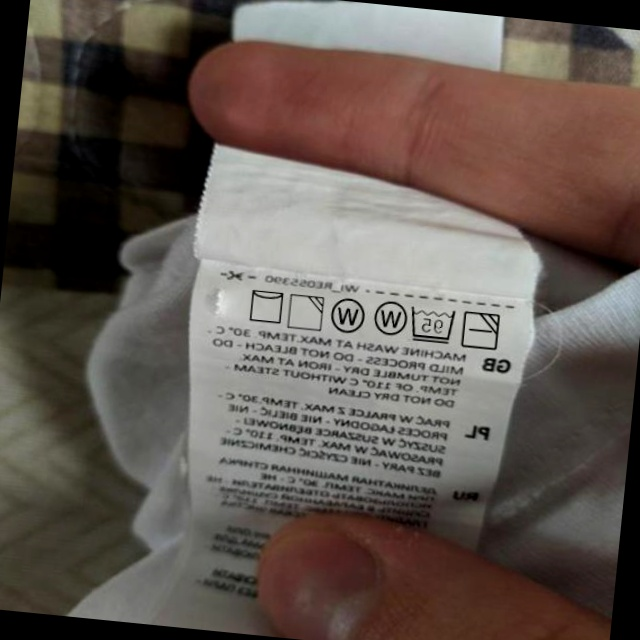95C: (406, 303, 458, 345)
dry_flat_in_shade: (460, 307, 503, 353)
line_dry: (244, 285, 287, 326)
shade_dry: (285, 291, 327, 333)
wet_clean: (370, 295, 409, 338), (328, 295, 367, 337)
